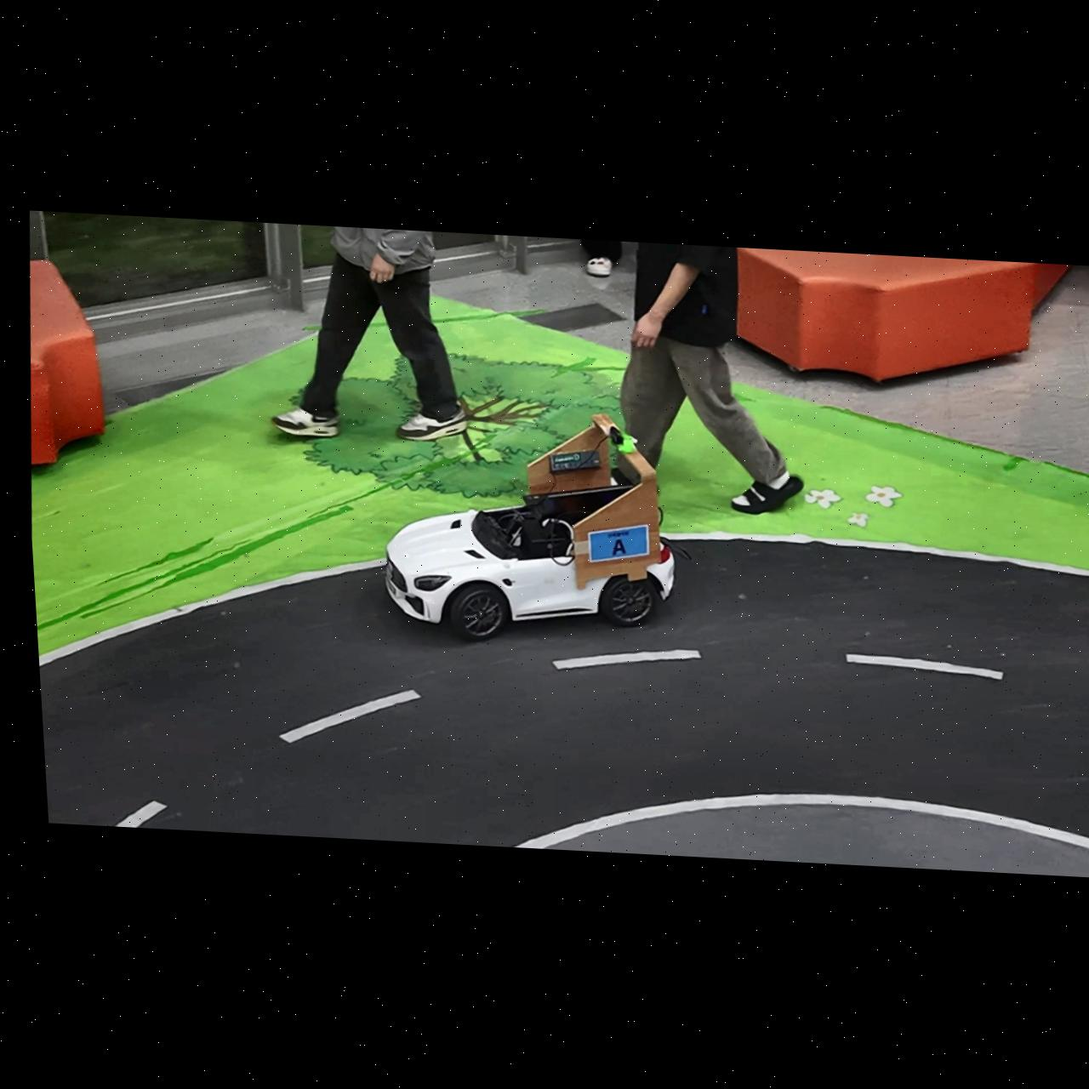broken_line: (279, 690, 421, 742), (846, 654, 1002, 679), (551, 649, 701, 669), (115, 800, 167, 827)
